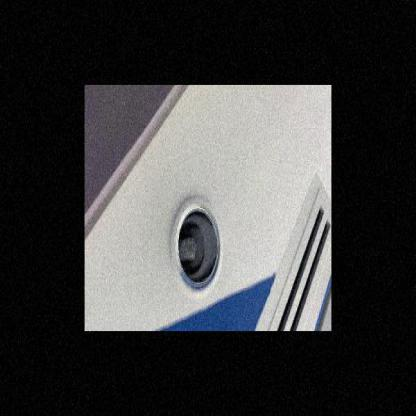light_off: (165, 186, 228, 303)
